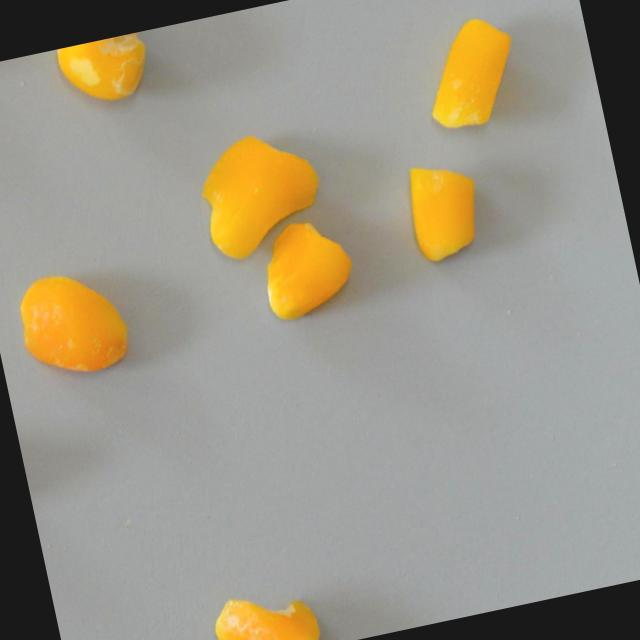dañado: (189, 118, 337, 267), (9, 259, 139, 390), (247, 207, 364, 326), (204, 574, 327, 640)
pelicula: (409, 7, 531, 141), (394, 152, 493, 268), (50, 30, 161, 115)
